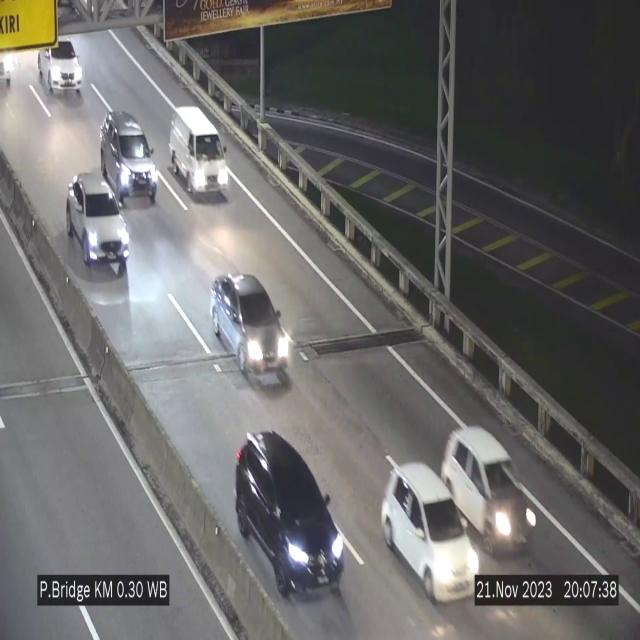Car: (235, 430, 345, 637), (382, 464, 480, 604), (444, 424, 540, 564), (210, 274, 284, 383), (67, 174, 129, 267), (100, 110, 158, 204), (169, 107, 229, 197), (39, 36, 89, 98)
